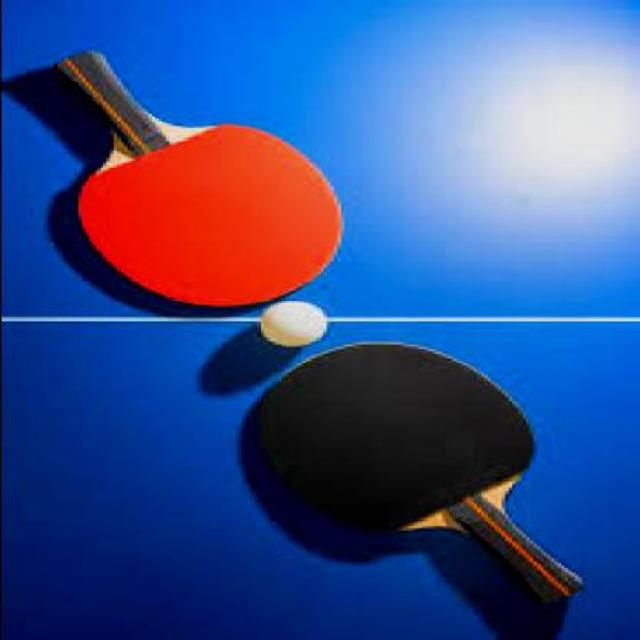table_tennis_racket: (240, 343, 583, 608), (58, 49, 343, 309)
